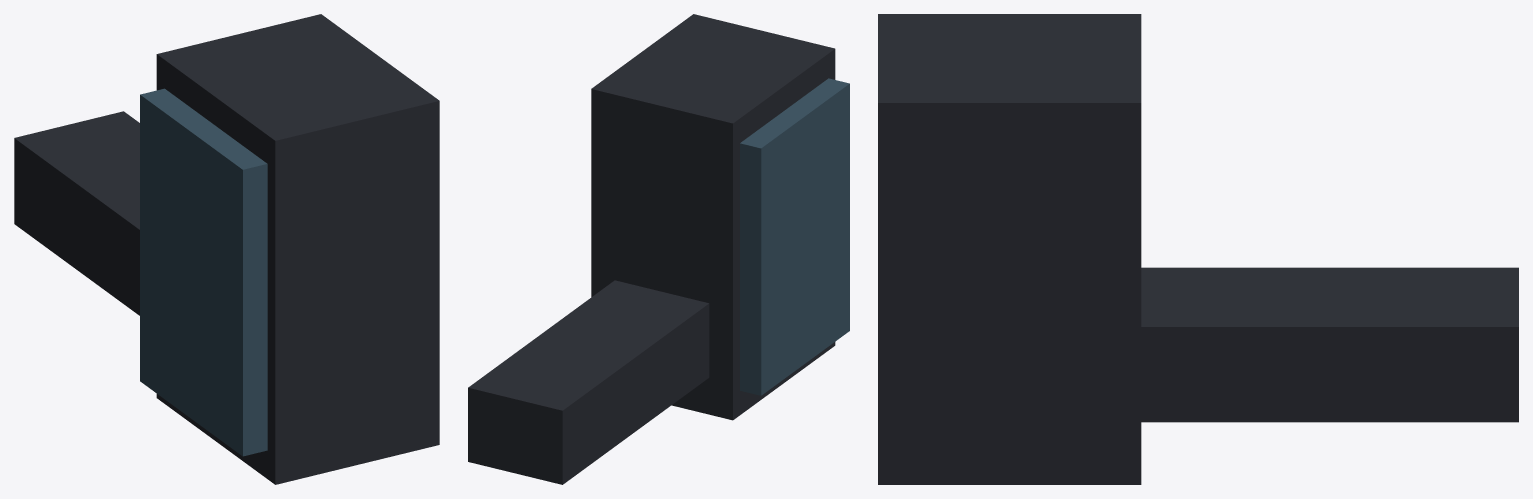
File: mirror_r.obj
3 renders of one model, left to right at view 1: azimuth 30°, elevation 25°; view 2: azimuth 150°, elevation 25°; view 3: azimuth 270°, elevation 25°, orthographic. The views are drawn at different scales.
Visible parts, largest first — view 1: Cube; view 2: Cube; view 3: Cube.
Part boxes in pixels (x1,y1,x2,y2): Cube: (14, 14, 439, 484); Cube: (468, 14, 849, 484); Cube: (878, 14, 1518, 484).
Size of the model in its own units: 0.069 by 0.12 by 0.1825.
